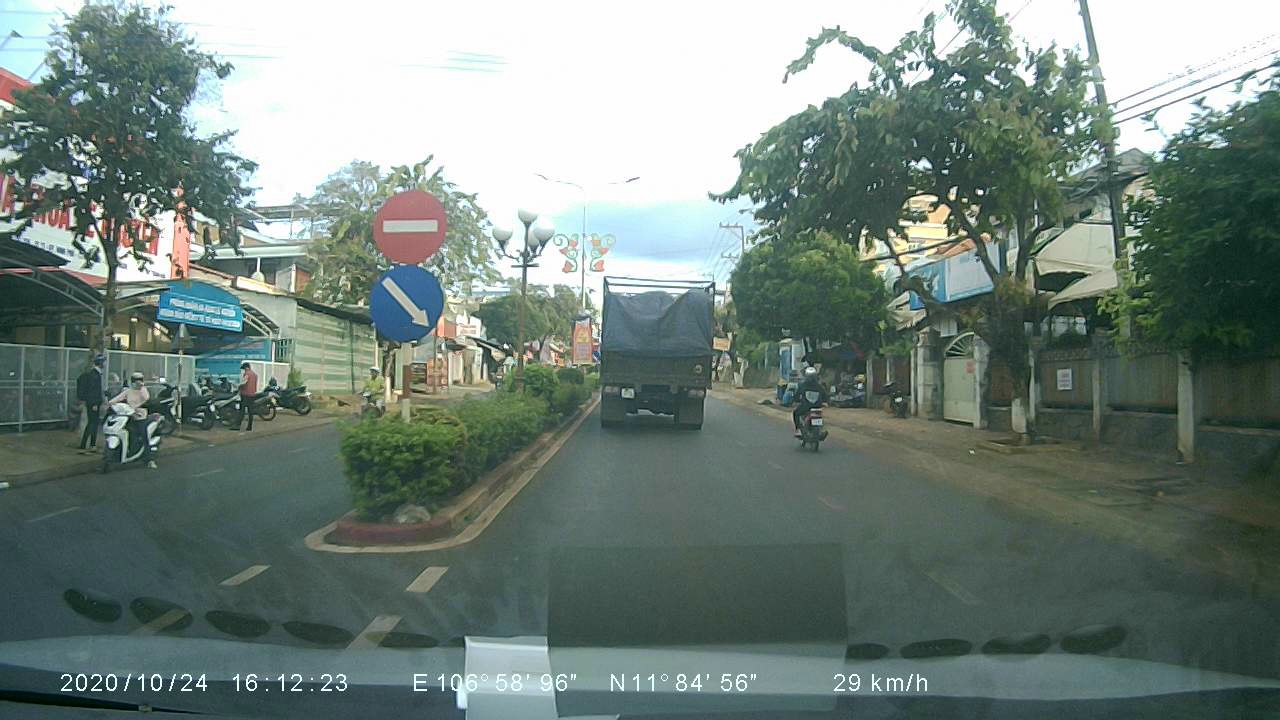Cam di nguoc chieu: (370, 187, 448, 262)
Huong di phai re phai: (370, 261, 444, 341)
